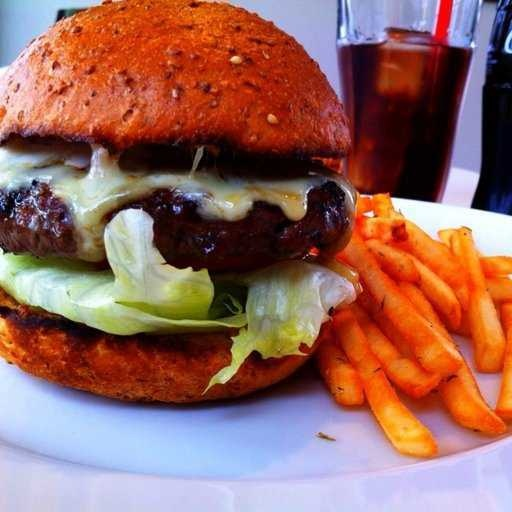hamburger: (1, 7, 368, 405)
